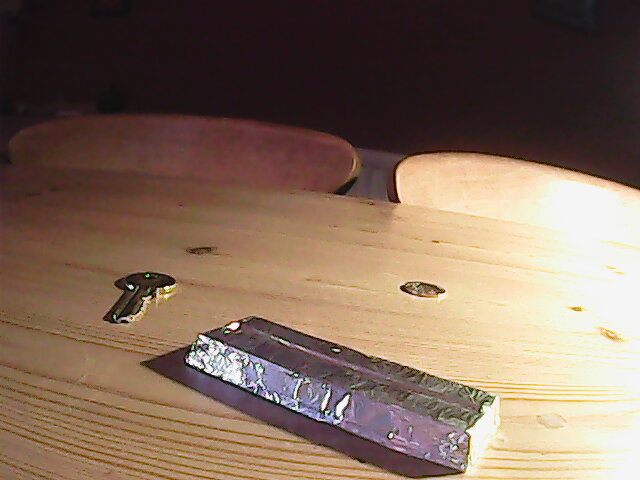Coin: (399, 278, 448, 300)
Foil: (182, 309, 505, 473)
Key: (111, 271, 179, 329)
